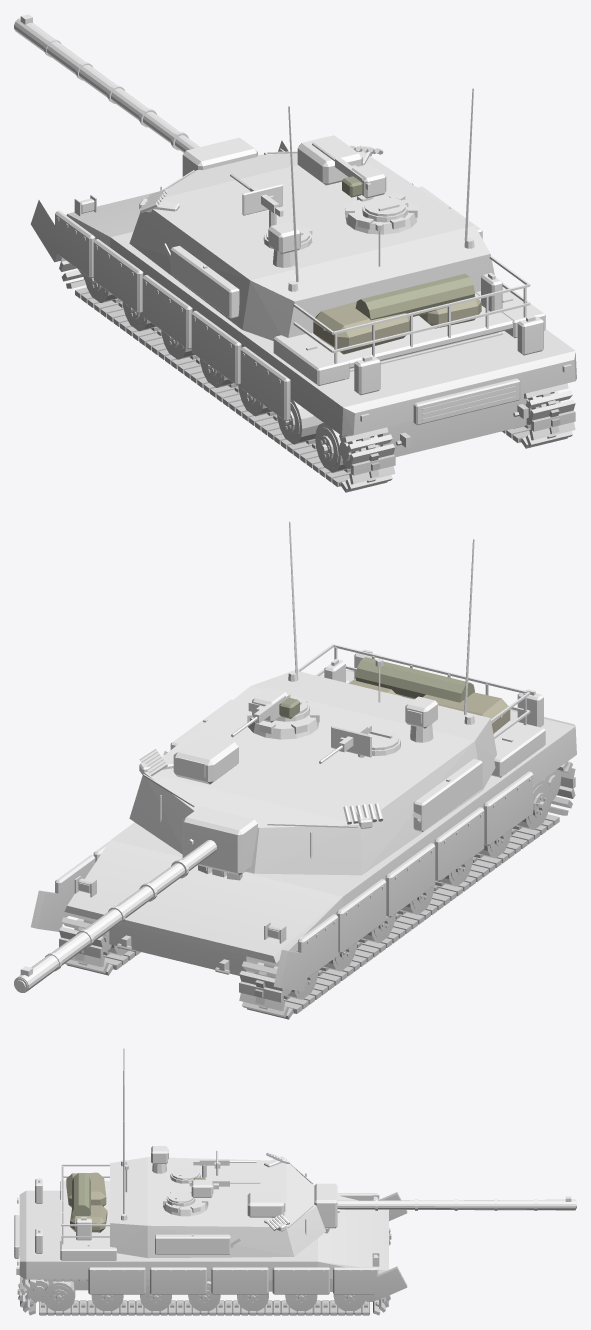
The model's file is tank_blue.glb.
3 renders of one model, top to bottom at view 1: azimuth 30°, elevation 25°; view 2: azimuth 150°, elevation 25°; view 3: azimuth 270°, elevation 25°, orthographic. The views are drawn at different scales.
Parts seen in each view (by area): view 1: turret, body, barrel; view 2: turret, body, barrel; view 3: body, turret, barrel.
Boxes of the visible parts, bbox=[...] form: turret: bbox=[129, 88, 530, 368]; body: bbox=[31, 138, 576, 492]; barrel: bbox=[14, 14, 199, 152]; turret: bbox=[129, 521, 530, 875]; body: bbox=[31, 649, 576, 1019]; barrel: bbox=[14, 840, 216, 992]; body: bbox=[14, 1178, 407, 1315]; turret: bbox=[61, 1048, 339, 1258]; barrel: bbox=[337, 1196, 576, 1210].
Bounding box in the file's own units: 3.88 × 4.79 × 11.91.
